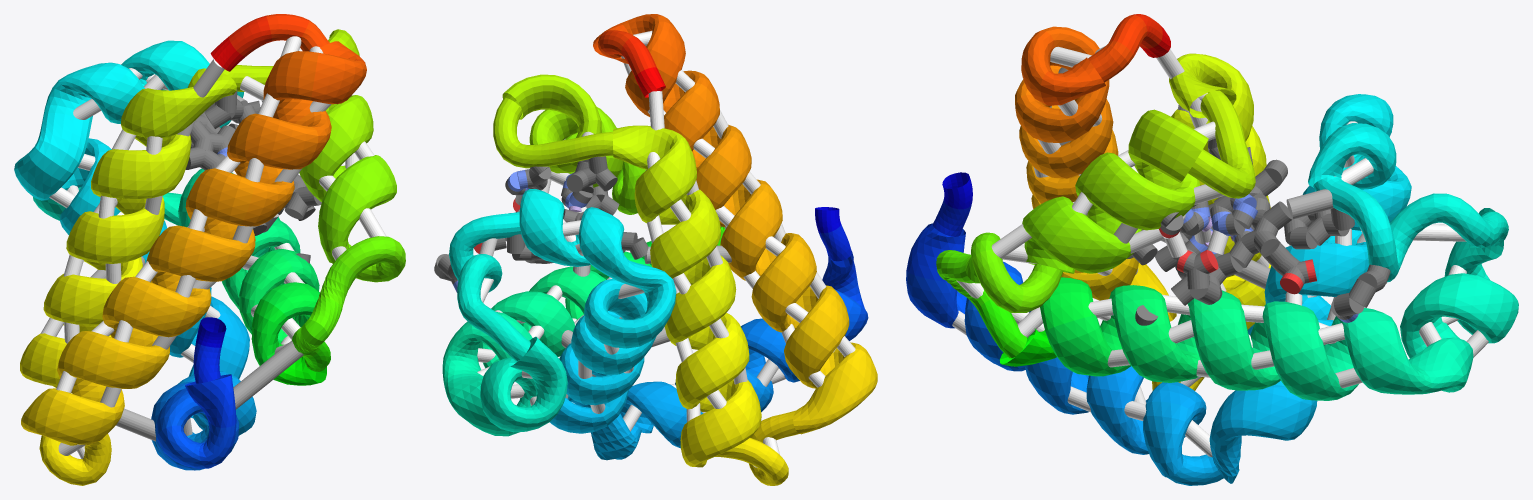
3 views of the same model, side by side, from view 1: azimuth 30°, elevation 25°; view 2: azimuth 150°, elevation 25°; view 3: azimuth 270°, elevation 25° (orthographic). The views are drawn at different scales.
Visible parts, largest first — view 1: imagetostl_mesh; view 2: imagetostl_mesh; view 3: imagetostl_mesh.
Part boxes in pixels (x1=…): imagetostl_mesh: x1=14, y1=14, x2=405, y2=485; imagetostl_mesh: x1=434, y1=14, x2=877, y2=485; imagetostl_mesh: x1=906, y1=14, x2=1518, y2=485.
Bounding box in the file's own units: 33.28 × 38.07 × 43.69.
